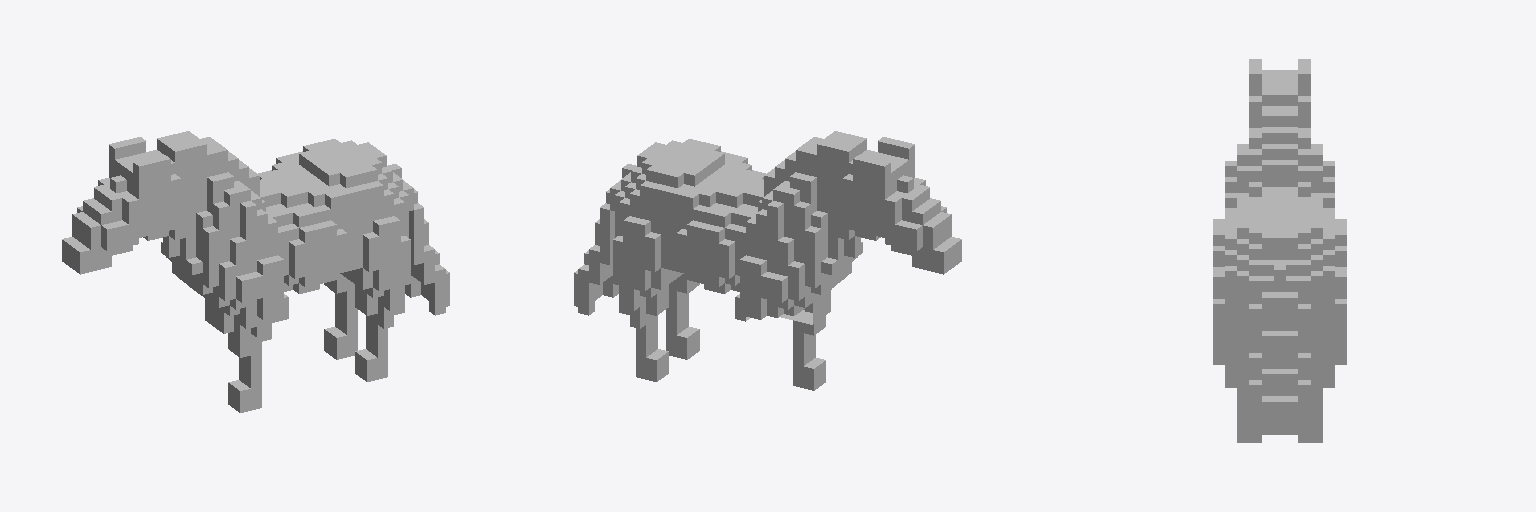
The model's file is horse.obj.
The picture shows the model from 3 angles: view 1: azimuth 30°, elevation 25°; view 2: azimuth 150°, elevation 25°; view 3: azimuth 270°, elevation 25°; orthographic projection.
Visible parts, largest first — view 1: x24_przewalski_horse; view 2: x24_przewalski_horse; view 3: x24_przewalski_horse.
Boxes of the visible parts, x1,y1,x2,y2 form: x24_przewalski_horse: [62, 131, 449, 412]; x24_przewalski_horse: [574, 131, 961, 390]; x24_przewalski_horse: [1213, 59, 1346, 442].
Size of the model in its own units: 35 by 24 by 11.